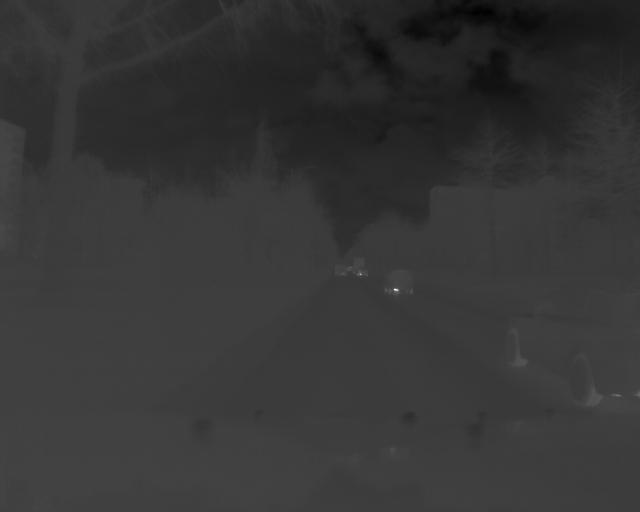car: (506, 285, 640, 406), (384, 267, 416, 296)
